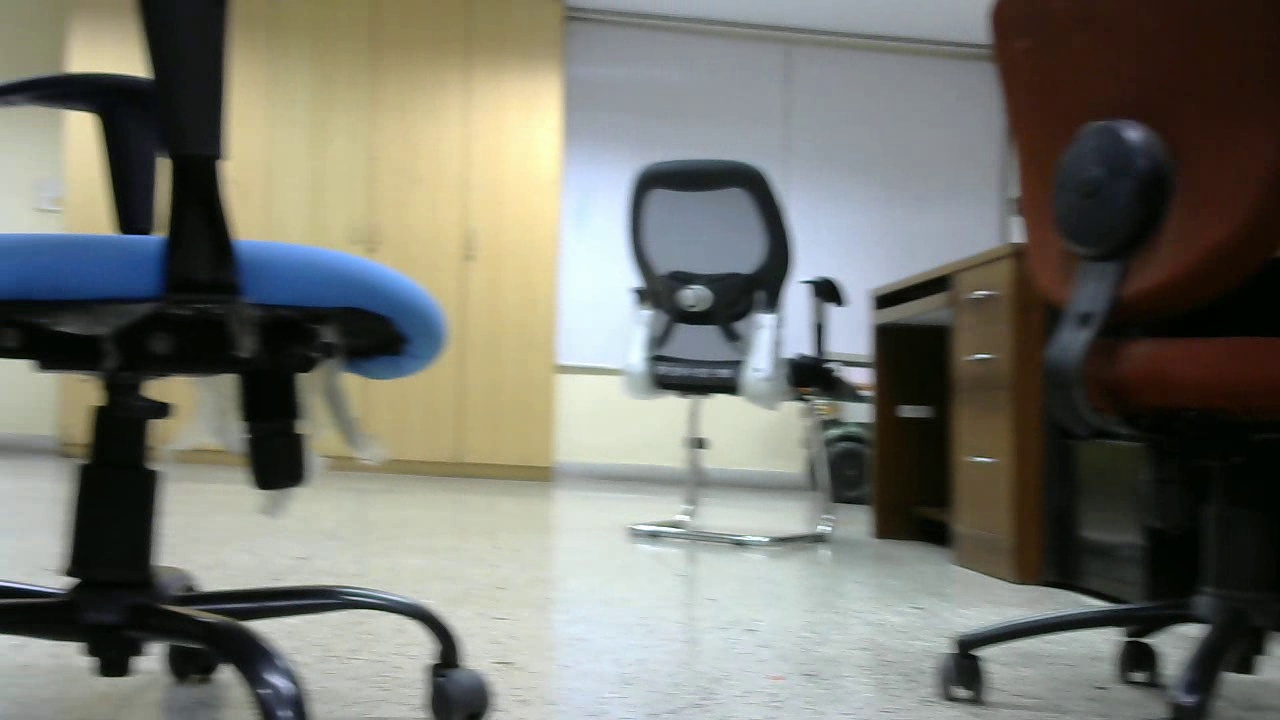chair: (926, 2, 1280, 719), (604, 149, 835, 548)
